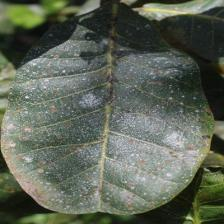red rust: (0, 0, 215, 215)
